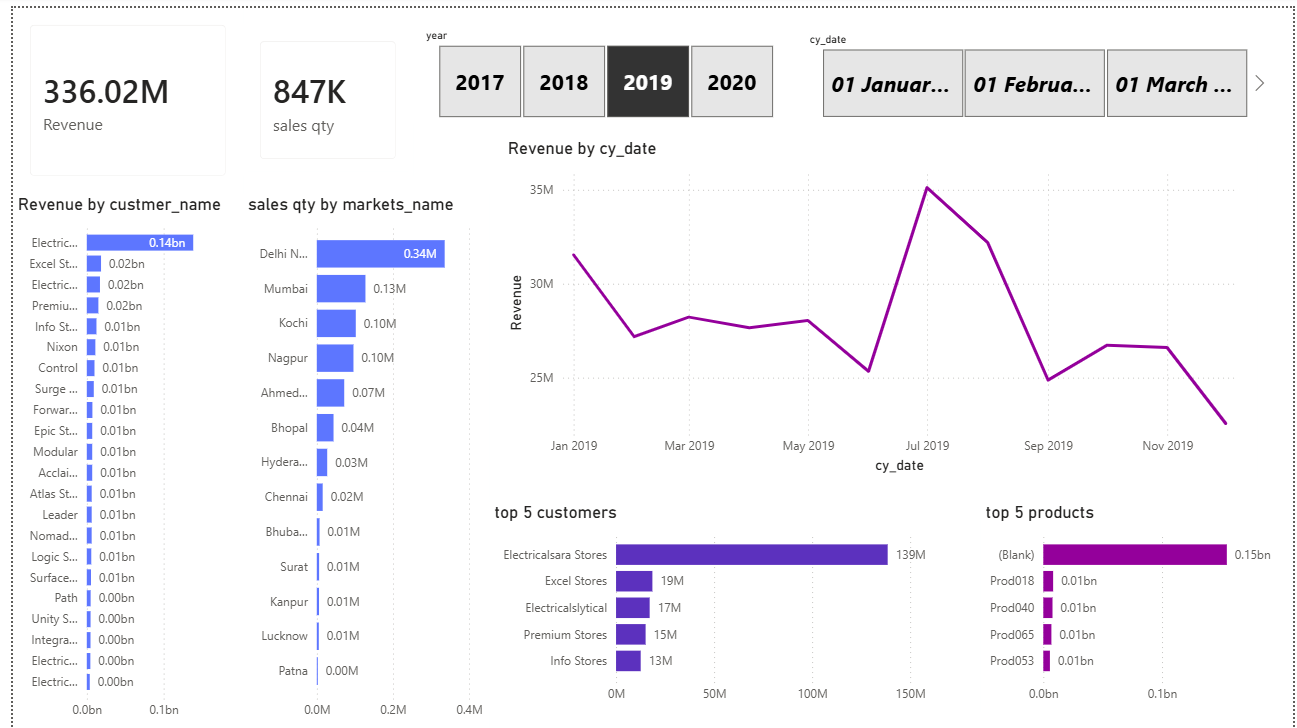

The page's visual inventory and layout, read from the dashboard file:
{"tool":"powerbi","page":{"name":"Page 1","canvas":[1280,720],"ordinal":0},"visuals":[{"type":"cardVisual","fields":{"Data":["BaseTable.Revenue"]},"box":[0,0,230,185.6],"z":0},{"type":"cardVisual","fields":{"Data":["BaseTable.sales qty"]},"box":[230,16,170,152],"z":1000},{"type":"barChart","fields":{"Category":["customers.custmer_name"],"Y":["BaseTable.Revenue"]},"box":[0,186,244,534],"z":2000},{"type":"barChart","fields":{"Category":["markets.markets_name"],"Y":["BaseTable.sales qty"]},"box":[230,186,246,534],"z":3000},{"type":"slicer","fields":{"Values":["date.year"]},"box":[400,16,384,100],"z":4000},{"type":"slicer","fields":{"Values":["date.cy_date"]},"box":[784,20,474,96],"z":4002},{"type":"barChart","title":"top 5 customers","fields":{"Category":["customers.custmer_name"],"Y":["BaseTable.Revenue"]},"box":[476,494,466,210],"z":4003},{"type":"barChart","title":"top 5 products","fields":{"Category":["products.product_code"],"Y":["BaseTable.Revenue"]},"box":[968,494,312,210],"z":4004},{"type":"lineChart","fields":{"Y":["BaseTable.Revenue"],"Category":["date.cy_date"]},"box":[490,130,754,340],"z":4005}]}

Visuals, with their boxes in screenshot pixels (x1, y1, x2, y2), scaled from the page's 1280x720 canvas onto the 1297x728 screenshot:
cardVisual - BaseTable.Revenue: box(0, 0, 233, 188)
cardVisual - BaseTable.sales qty: box(233, 16, 405, 170)
barChart - customers.custmer_name x BaseTable.Revenue: box(0, 188, 247, 727)
barChart - markets.markets_name x BaseTable.sales qty: box(233, 188, 482, 727)
slicer - date.year: box(405, 16, 794, 117)
slicer - date.cy_date: box(794, 20, 1275, 117)
"top 5 customers" barChart: box(482, 499, 955, 712)
"top 5 products" barChart: box(981, 499, 1296, 712)
lineChart - BaseTable.Revenue x date.cy_date: box(497, 131, 1261, 475)
